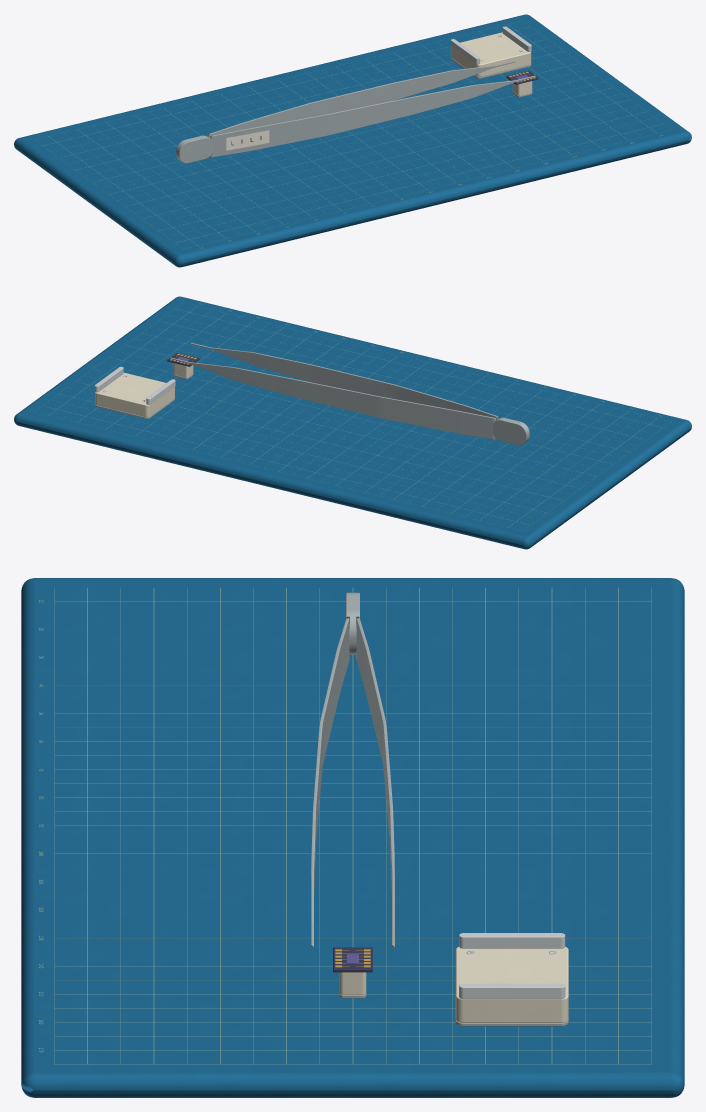
3 renders of one model, top to bottom at view 1: azimuth 30°, elevation 25°; view 2: azimuth 150°, elevation 25°; view 3: azimuth 270°, elevation 25°, orthographic. The views are drawn at different scales.
Visible parts, largest first — view 1: base__cutting_mat_blue, jaw_left__brushed, jaw_right__brushed, base__label, base__ceramic, tool__brushed, base__steel, jaw_left__paper; view 2: base__cutting_mat_blue, jaw_right__brushed, jaw_left__brushed, base__label, base__ceramic, tool__brushed, base__steel; view 3: base__cutting_mat_blue, base__label, base__ceramic, base__steel, jaw_left__brushed, jaw_right__brushed, chip__wafer.
Boxes of the visible parts, x1,y1,x2,y2 form: base__cutting_mat_blue: (14,14,691,267); jaw_left__brushed: (210,75,535,157); jaw_right__brushed: (207,60,515,138); base__label: (39,21,671,248); base__ceramic: (451,32,532,95); tool__brushed: (176,135,213,163); base__steel: (451,26,531,64); jaw_left__paper: (226,130,269,150); base__cutting_mat_blue: (14,296,691,549); jaw_right__brushed: (170,357,495,439); jaw_left__brushed: (190,342,498,420); base__label: (34,303,666,530); base__ceramic: (95,363,193,417); tool__brushed: (492,417,529,445); base__steel: (94,366,175,404); base__cutting_mat_blue: (21,578,684,1097); base__label: (39,587,651,1064); base__ceramic: (339,947,568,1022); base__steel: (459,933,565,999); jaw_left__brushed: (311,616,349,947); jaw_right__brushed: (356,616,394,947); chip__wafer: (333,947,372,972).
Bounding box in the file's own units: 0.18 × 0.0157 × 0.1.
Materials: 11 (7 with a texture image).
